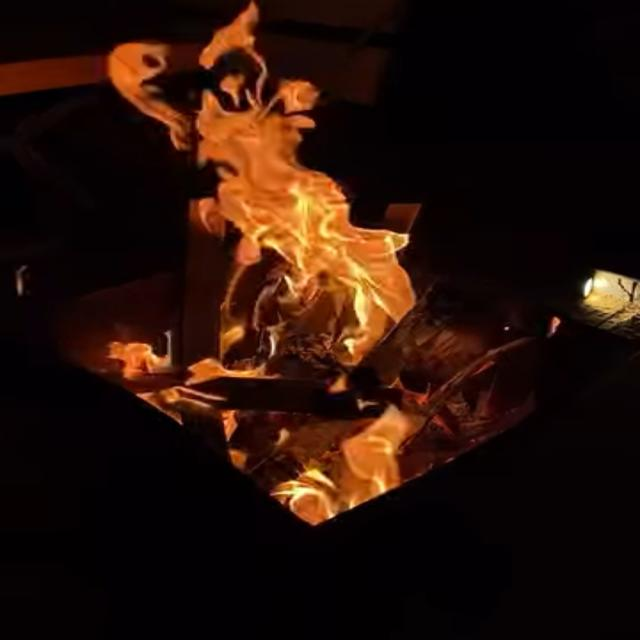fire: (107, 2, 536, 526)
